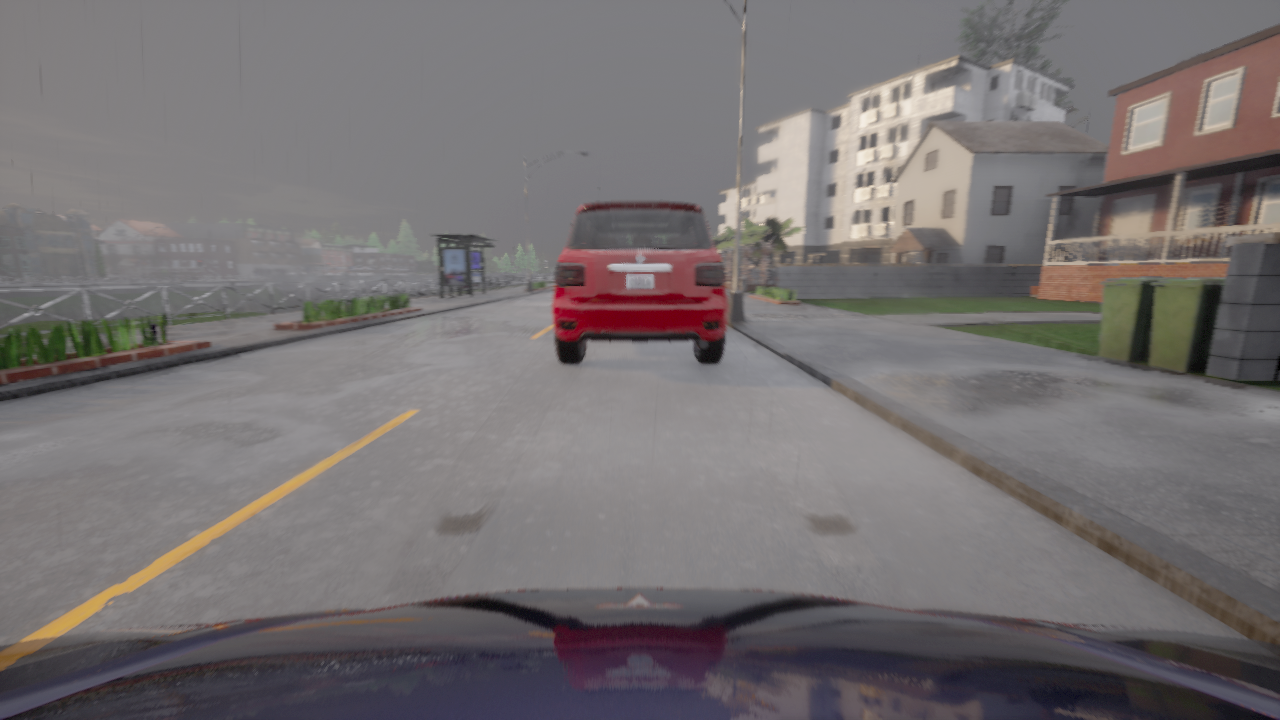cyclist: (0, 588, 1279, 719), (552, 201, 727, 363)
